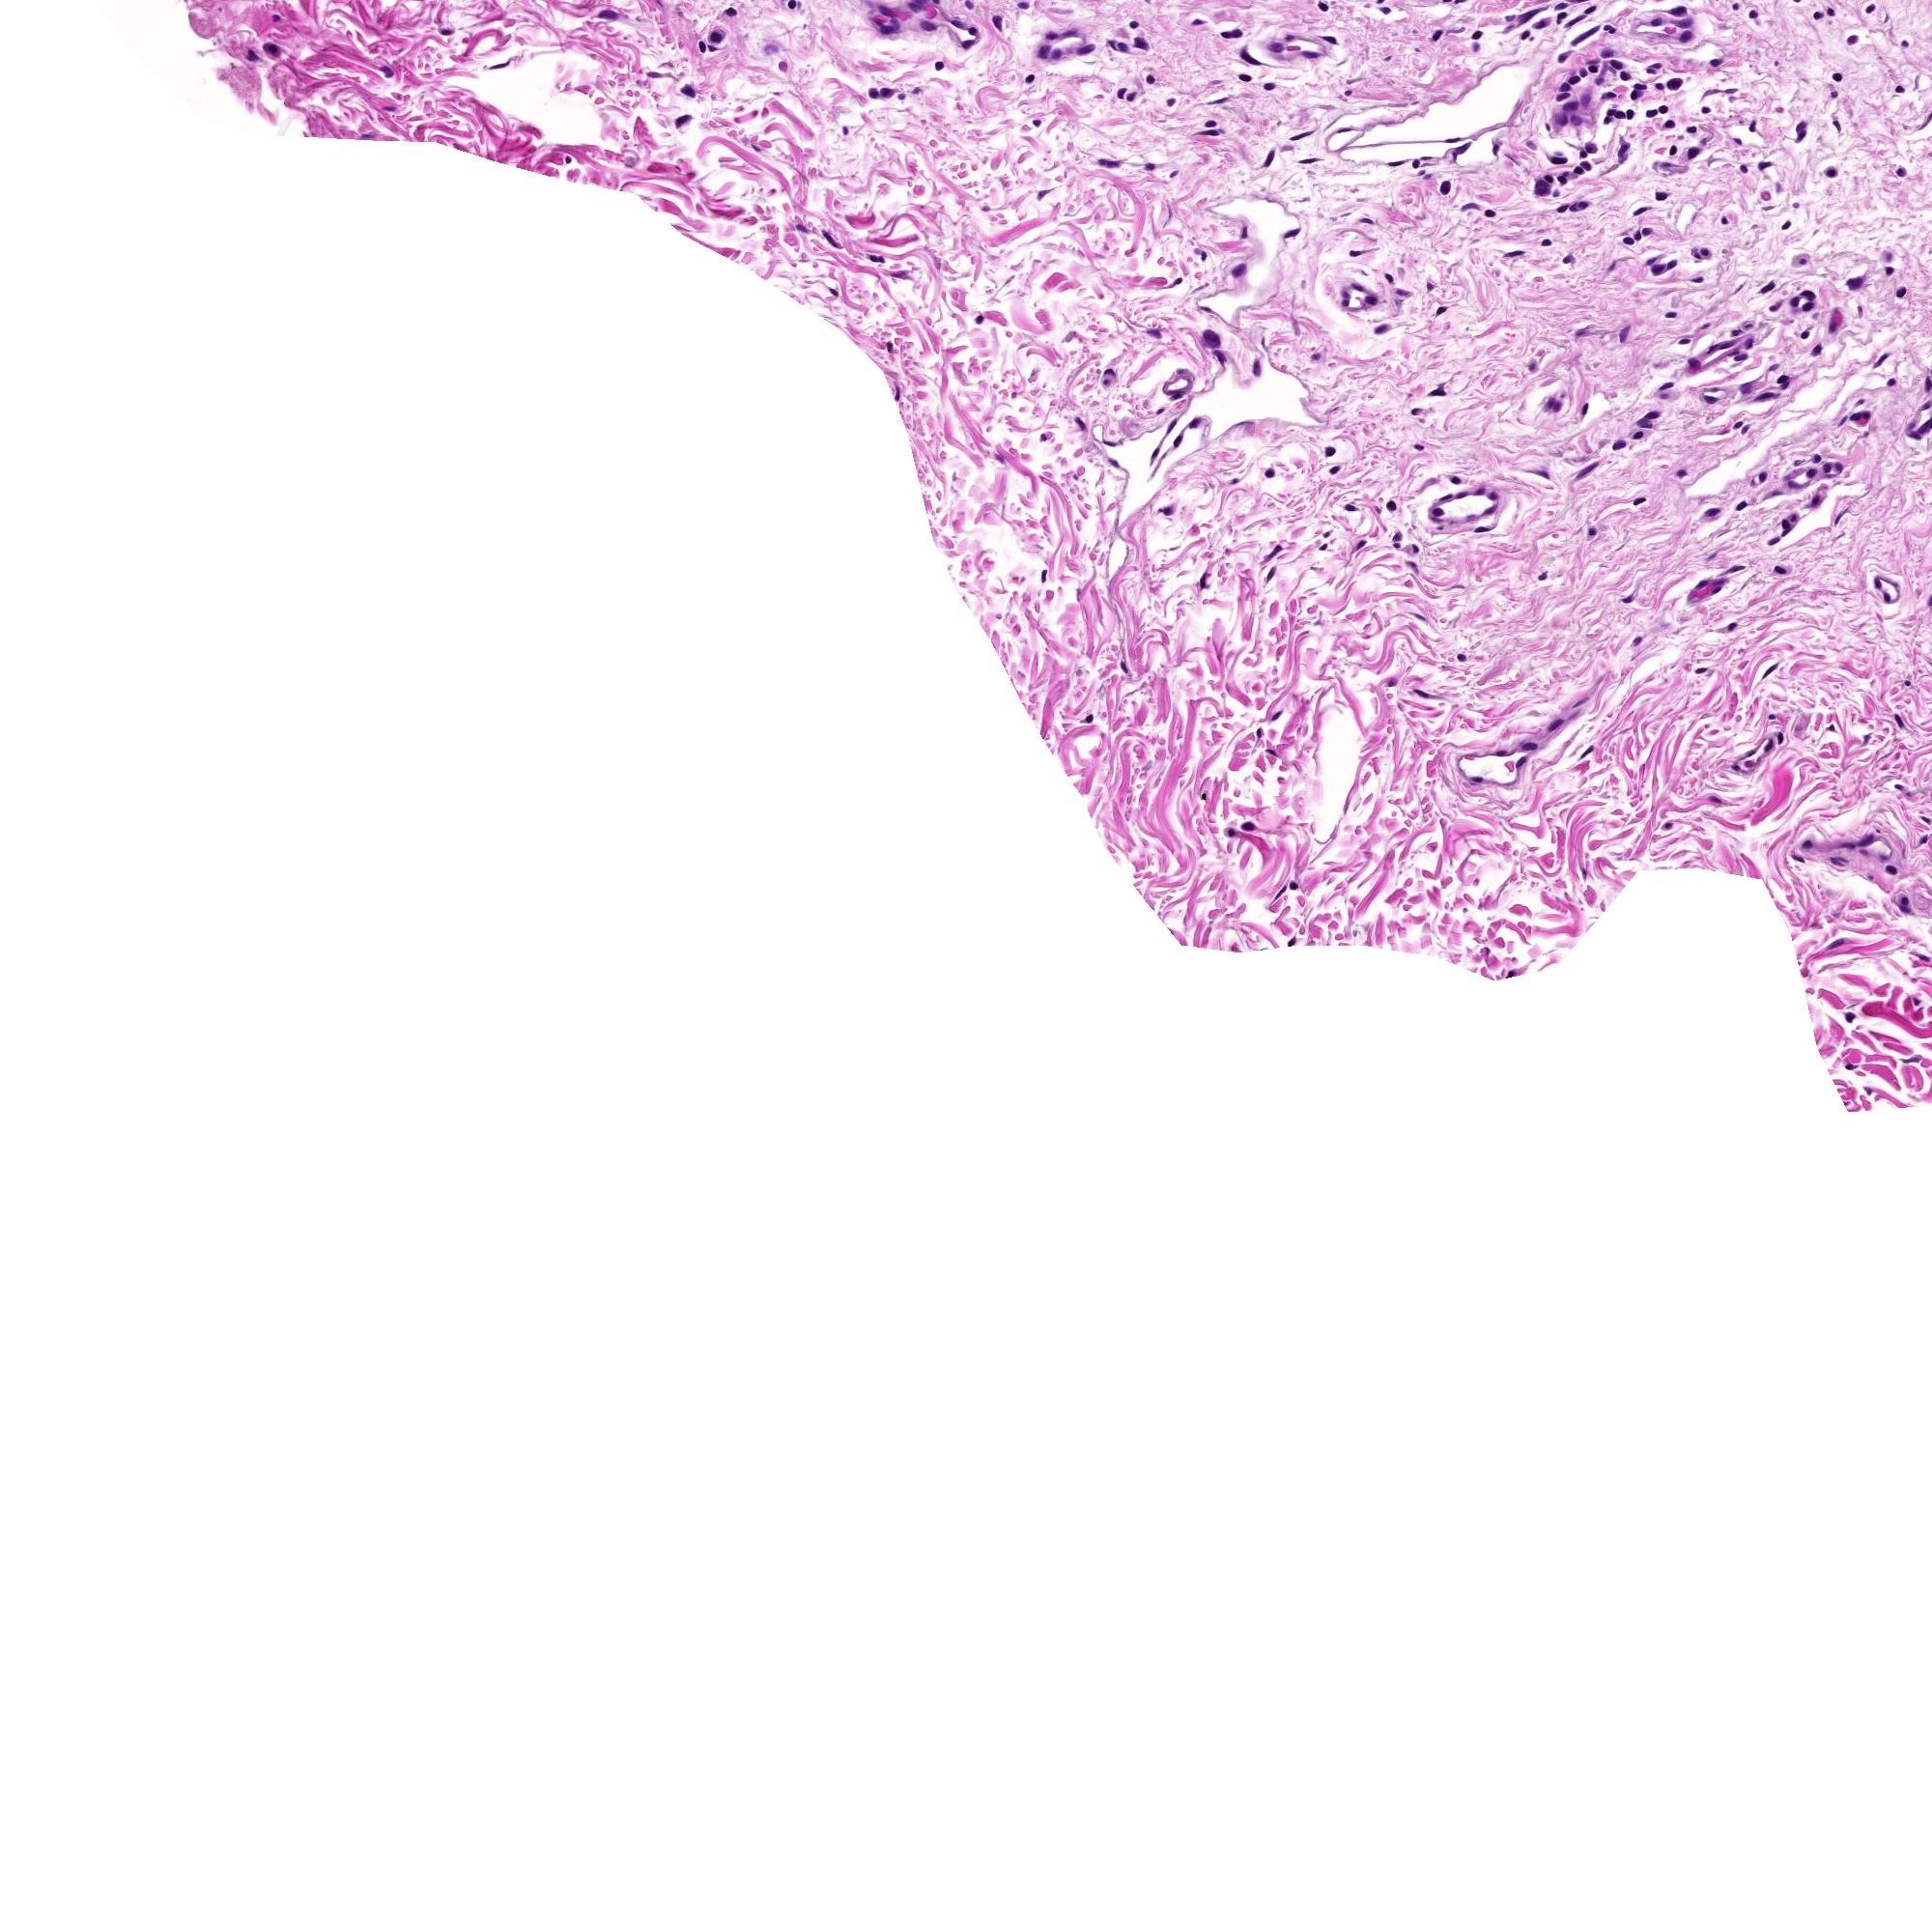epithelial: (1460, 655, 1465, 658), (701, 44, 702, 48)
fibroblast and endothelial: (1706, 396, 1714, 402), (1488, 508, 1495, 513), (881, 28, 890, 32), (1246, 55, 1251, 60), (1614, 62, 1619, 67), (1806, 292, 1812, 297), (1677, 9, 1683, 14), (1306, 53, 1313, 57), (709, 46, 713, 51), (1040, 50, 1044, 55), (1120, 44, 1125, 48), (1274, 44, 1279, 48), (1384, 9, 1389, 12), (1571, 78, 1576, 81), (1509, 253, 1520, 255), (826, 235, 832, 239), (1079, 419, 1083, 425), (1169, 423, 1175, 426), (1154, 449, 1157, 455), (1279, 890, 1284, 893), (1419, 692, 1424, 695), (1767, 743, 1771, 748), (1923, 837, 1927, 842), (1897, 786, 1902, 789), (1783, 524, 1789, 527), (1838, 464, 1842, 469), (1790, 483, 1796, 487), (1886, 267, 1891, 271), (1792, 301, 1798, 304), (1583, 471, 1589, 474), (1647, 260, 1652, 264), (1647, 69, 1652, 73), (1684, 34, 1690, 37), (1589, 7, 1594, 11), (1414, 547, 1417, 552), (1833, 943, 1838, 947), (1368, 299, 1373, 303), (1297, 134, 1306, 136), (1173, 391, 1182, 393), (653, 73, 656, 76), (971, 30, 975, 34), (1054, 51, 1058, 55), (1109, 42, 1113, 46), (1129, 96, 1132, 99), (1212, 131, 1215, 134), (1196, 21, 1200, 25), (1244, 76, 1247, 80), (1288, 35, 1292, 39), (1269, 156, 1270, 163), (1343, 129, 1350, 131), (1392, 163, 1399, 165), (1560, 57, 1564, 60), (1591, 67, 1594, 71), (1582, 71, 1585, 74), (1560, 96, 1568, 97), (1608, 94, 1612, 97), (1555, 159, 1562, 161), (1288, 234, 1295, 235), (1113, 460, 1116, 464), (1192, 421, 1196, 425), (1122, 663, 1125, 667), (1258, 731, 1261, 734), (1555, 722, 1559, 725), (1580, 701, 1583, 704), (1898, 718, 1902, 722), (1796, 856, 1799, 860), (1769, 667, 1773, 671), (1762, 474, 1766, 478), (1810, 472, 1813, 476), (1826, 465, 1829, 469), (1854, 414, 1858, 418), (1881, 356, 1884, 359), (1762, 395, 1769, 396), (1711, 347, 1714, 350), (1748, 343, 1752, 347), (1578, 331, 1582, 334), (1702, 249, 1706, 253), (1714, 60, 1718, 64), (1573, 19, 1580, 21), (1799, 124, 1803, 127), (1460, 494, 1463, 497), (1454, 478, 1458, 481), (1276, 548, 1279, 552), (681, 119, 688, 120), (1428, 285, 1431, 288), (1357, 287, 1361, 290), (1343, 301, 1346, 304), (964, 42, 970, 44), (957, 21, 959, 27), (1049, 35, 1054, 37), (1067, 32, 1072, 34), (1120, 90, 1122, 96), (1109, 163, 1115, 165), (1327, 37, 1332, 39), (1451, 140, 1456, 142), (1560, 209, 1566, 211), (1177, 437, 1178, 442), (1276, 713, 1277, 718), (1527, 747, 1532, 748), (1499, 752, 1504, 754), (1805, 844, 1810, 846), (1845, 844, 1851, 846), (1865, 414, 1870, 416), (1842, 418, 1844, 423), (1762, 165, 1767, 166), (1652, 21, 1658, 23), (1683, 23, 1688, 25), (1527, 14, 1532, 16), (1801, 133, 1803, 138), (1444, 497, 1449, 499), (1437, 393, 1442, 395), (1438, 310, 1444, 311), (1352, 253, 1357, 255), (1364, 219, 1369, 221), (1539, 577, 1545, 579), (1100, 161, 1104, 163), (1461, 149, 1465, 150), (1564, 87, 1568, 88), (1548, 177, 1550, 180), (1108, 370, 1111, 372), (1108, 442, 1111, 444), (1269, 750, 1272, 752), (1476, 778, 1479, 780), (1587, 750, 1591, 752), (1713, 798, 1716, 800), (1736, 766, 1737, 770), (1863, 851, 1865, 855), (1925, 817, 1927, 821), (1698, 669, 1702, 671), (1730, 625, 1734, 626), (1626, 600, 1629, 602), (1886, 596, 1888, 600), (1877, 582, 1879, 586), (1836, 517, 1838, 520), (1776, 492, 1780, 494), (1831, 326, 1833, 329), (1806, 306, 1810, 308), (1665, 386, 1668, 387), (1744, 428, 1746, 432), (1583, 407, 1585, 410), (1658, 87, 1661, 88), (1736, 140, 1739, 142), (1560, 5, 1564, 7), (1622, 149, 1624, 152), (1836, 122, 1838, 126), (1914, 435, 1918, 437), (1479, 490, 1483, 492), (1361, 541, 1362, 545), (1348, 508, 1352, 510), (1914, 1000, 1916, 1003), (1921, 957, 1925, 959), (1847, 1067, 1851, 1069), (1389, 276, 1391, 280), (1637, 501, 1640, 502), (1150, 165, 1152, 166), (1495, 149, 1497, 150), (1178, 280, 1180, 281), (1205, 308, 1207, 310), (1159, 410, 1161, 412), (1042, 573, 1044, 575), (1520, 761, 1522, 763), (1831, 727, 1833, 729), (1716, 589, 1718, 591), (1737, 568, 1739, 570), (1737, 423, 1739, 425), (1697, 255, 1698, 257), (1656, 65, 1658, 67), (1493, 495, 1495, 497), (1323, 547, 1325, 548), (1270, 573, 1272, 575)
inflammatory: (1851, 280, 1859, 287), (1208, 334, 1215, 341), (881, 9, 890, 14), (1637, 209, 1645, 214), (713, 35, 720, 41), (603, 12, 614, 16), (994, 18, 1000, 25), (1672, 81, 1679, 87), (1138, 41, 1143, 46), (1640, 421, 1645, 426), (1444, 184, 1447, 191), (1622, 331, 1626, 338), (1237, 267, 1244, 271), (870, 92, 876, 96), (925, 25, 931, 28), (1021, 4, 1026, 7), (1235, 32, 1240, 35), (1605, 119, 1610, 122), (1219, 354, 1223, 359), (1776, 568, 1782, 571), (1782, 377, 1787, 380), (1668, 313, 1672, 318), (1766, 287, 1771, 290), (1649, 414, 1654, 418), (1637, 433, 1642, 437), (1615, 444, 1621, 448), (1654, 267, 1660, 271), (1660, 195, 1665, 198), (1539, 23, 1545, 27), (1829, 172, 1835, 175), (1741, 166, 1744, 172), (271, 46, 274, 50), (686, 88, 690, 92), (883, 90, 886, 94), (1083, 50, 1090, 51), (1210, 122, 1214, 126), (1322, 5, 1325, 9), (1606, 51, 1610, 55), (1619, 113, 1622, 117), (1560, 177, 1564, 180), (1545, 241, 1548, 244), (1231, 832, 1235, 835), (1246, 824, 1253, 826), (1739, 356, 1746, 357), (1626, 239, 1629, 242), (1870, 5, 1874, 9), (1851, 39, 1854, 42), (1801, 260, 1805, 264), (1329, 449, 1332, 453), (1723, 219, 1727, 223), (1399, 292, 1403, 295), (1376, 329, 1380, 333), (1679, 471, 1683, 474), (1223, 34, 1228, 35), (1267, 85, 1272, 87), (1629, 111, 1631, 117), (1587, 149, 1592, 150), (1583, 165, 1589, 166), (1709, 511, 1714, 513), (1672, 262, 1674, 267), (1150, 78, 1152, 81), (1035, 122, 1039, 124), (1169, 101, 1173, 103), (1437, 34, 1438, 37), (1414, 163, 1417, 165), (1667, 824, 1670, 826), (1780, 736, 1782, 740), (1741, 504, 1744, 506), (1817, 456, 1819, 460), (1815, 349, 1819, 350), (1683, 340, 1686, 341), (1557, 405, 1559, 409), (1898, 170, 1900, 173), (1610, 111, 1612, 113), (1578, 170, 1580, 172), (1203, 255, 1205, 257), (978, 318, 980, 320), (1891, 869, 1893, 870), (1792, 518, 1794, 520), (1550, 402, 1552, 403), (1693, 150, 1695, 152), (1904, 42, 1905, 44), (1591, 531, 1592, 533)
lymphocyte: (727, 9, 732, 14), (1028, 76, 1033, 80), (1898, 290, 1904, 294), (1750, 12, 1755, 16), (1817, 12, 1821, 18), (1437, 510, 1440, 515), (1637, 85, 1642, 88), (274, 16, 278, 19), (791, 2, 794, 5), (938, 64, 941, 67), (1622, 74, 1626, 78), (1582, 152, 1585, 156), (1486, 212, 1493, 214), (1269, 472, 1272, 476), (1803, 333, 1806, 336), (1734, 331, 1737, 334), (1644, 230, 1647, 234), (1651, 111, 1654, 115), (1750, 127, 1753, 131), (1829, 11, 1833, 14), (1898, 88, 1902, 92), (1131, 23, 1136, 25), (1668, 122, 1674, 124), (1523, 34, 1529, 35), (1332, 469, 1338, 471), (1477, 32, 1479, 37), (1635, 94, 1637, 97), (1042, 435, 1044, 439), (1293, 885, 1295, 888), (1907, 681, 1909, 685), (1568, 258, 1569, 262), (1637, 235, 1640, 237), (1661, 108, 1665, 110), (1672, 149, 1674, 152), (1690, 127, 1693, 129), (1704, 110, 1707, 111), (1605, 27, 1608, 28), (1835, 76, 1838, 78), (1391, 504, 1392, 508), (1419, 448, 1422, 449), (1849, 1016, 1851, 1019), (1394, 545, 1398, 547), (1771, 717, 1773, 718), (1891, 380, 1893, 382), (1612, 30, 1614, 32), (1736, 5, 1737, 7), (1785, 225, 1787, 226)
